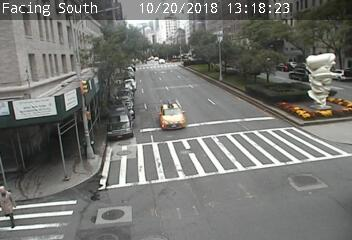car: (159, 104, 185, 131)
